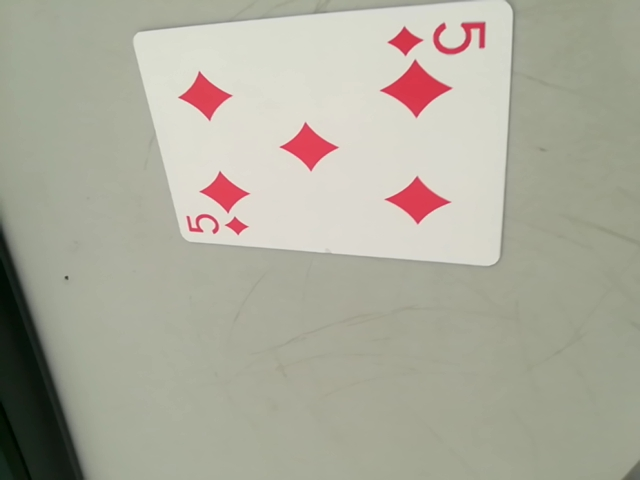fk 5: (390, 15, 490, 62), (184, 208, 250, 241)
